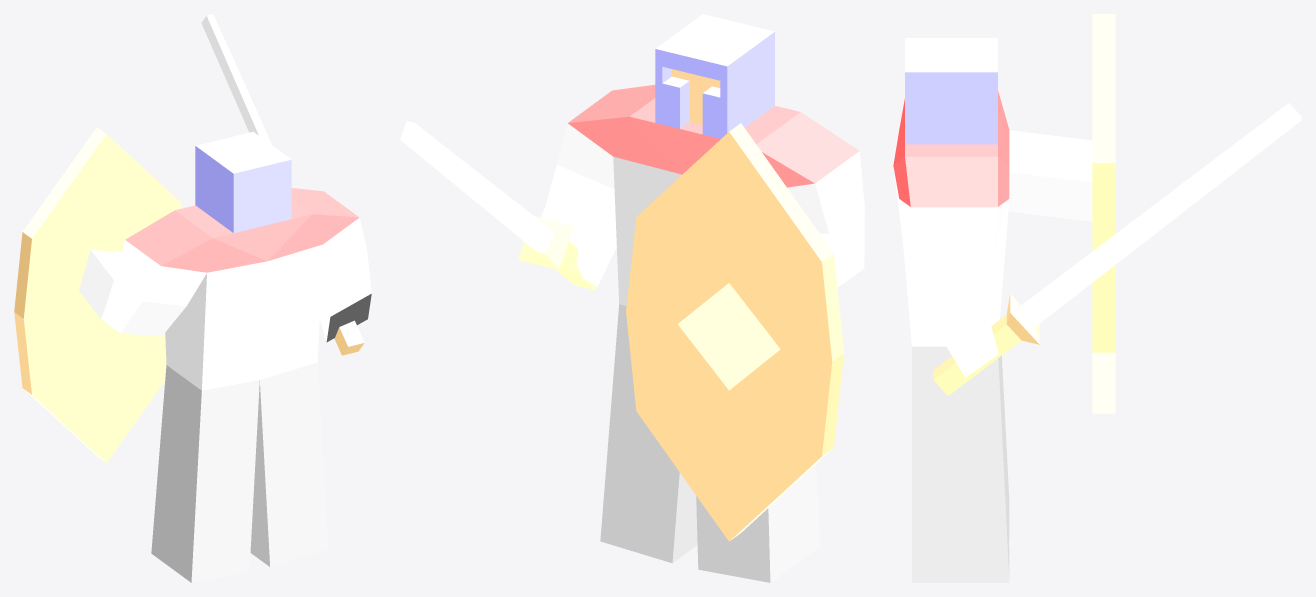
Rendered from legion.glb.
The picture shows the model from 3 angles, left to right: view 1: azimuth 30°, elevation 25°; view 2: azimuth 150°, elevation 25°; view 3: azimuth 270°, elevation 25°; orthographic projection. The views are drawn at different scales.
Visible parts, largest first — view 1: Cube.001; view 2: Cube.001; view 3: Cube.001.
Boxes of the visible parts, box(x1,y1,x2,y2) form: Cube.001: box(14, 14, 371, 582); Cube.001: box(400, 14, 864, 582); Cube.001: box(893, 14, 1301, 582).
Size of the model in its own units: 0.7048 by 0.959 by 0.7035.
